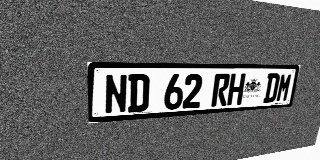2: (182, 74, 203, 109)
6: (164, 74, 185, 110)
D: (128, 74, 150, 113), (263, 73, 281, 103)
H: (227, 73, 246, 106)
M: (275, 73, 293, 102)
N: (105, 74, 128, 114)
R: (211, 74, 231, 107)
